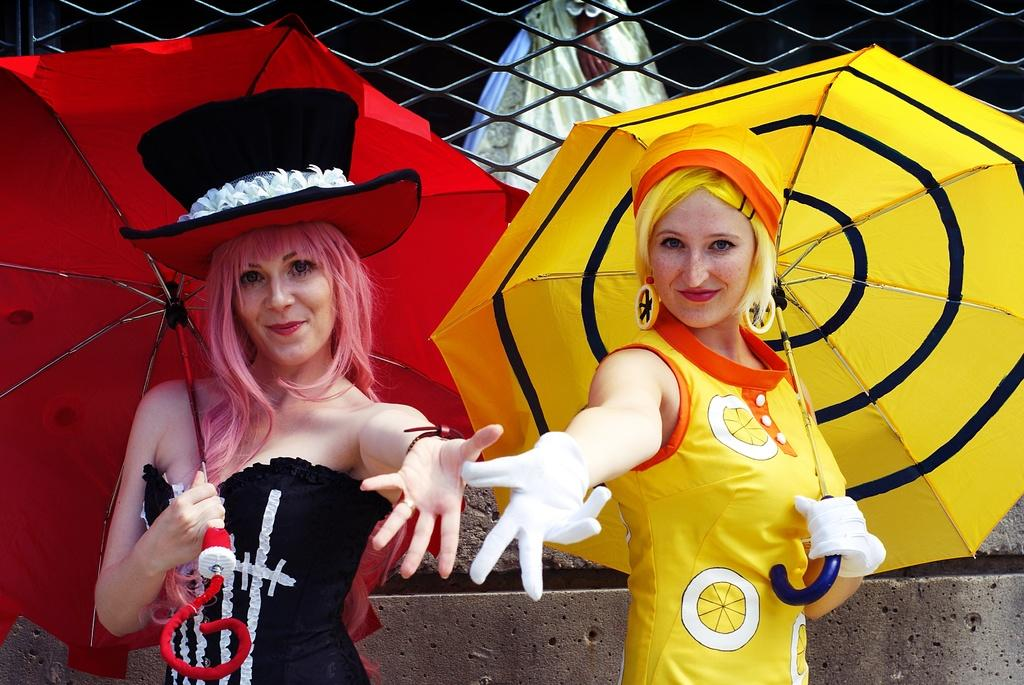Hat: (120, 86, 422, 281)
